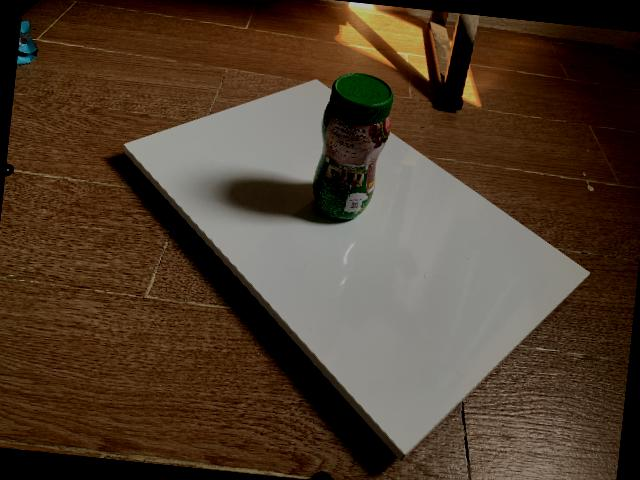milo: (313, 73, 394, 222)
